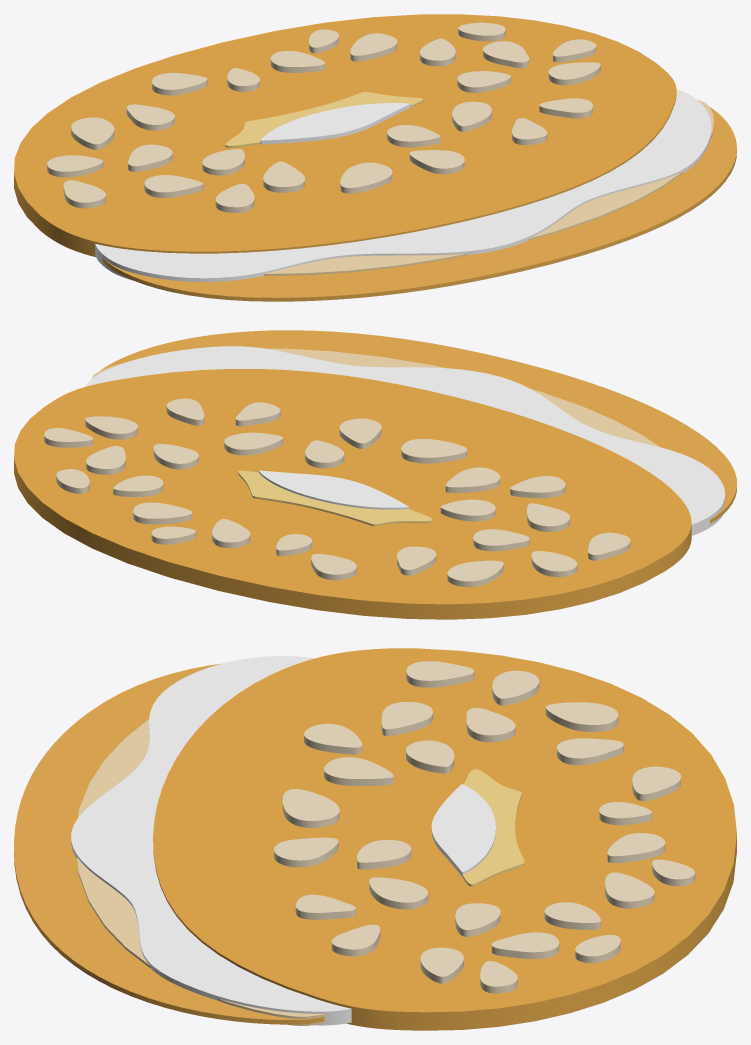
Rendered from emoji_u1f96f.glb.
The picture shows the model from 3 angles, top to bottom: view 1: azimuth 30°, elevation 25°; view 2: azimuth 150°, elevation 25°; view 3: azimuth 270°, elevation 25°; orthographic projection. The views are drawn at different scales.
Parts seen in each view (by area): view 1: emoji_u1f96f; view 2: emoji_u1f96f; view 3: emoji_u1f96f.
Part boxes in pixels (x1=…): emoji_u1f96f: x1=14, y1=14, x2=736, y2=301; emoji_u1f96f: x1=14, y1=330, x2=736, y2=619; emoji_u1f96f: x1=14, y1=648, x2=736, y2=1030.
Size of the model in its own units: 0.0339 by 0.0014 by 0.0284.
